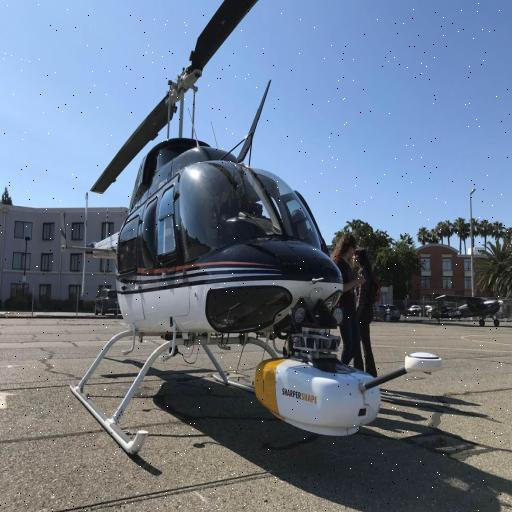helicopter: (68, 1, 446, 460)
